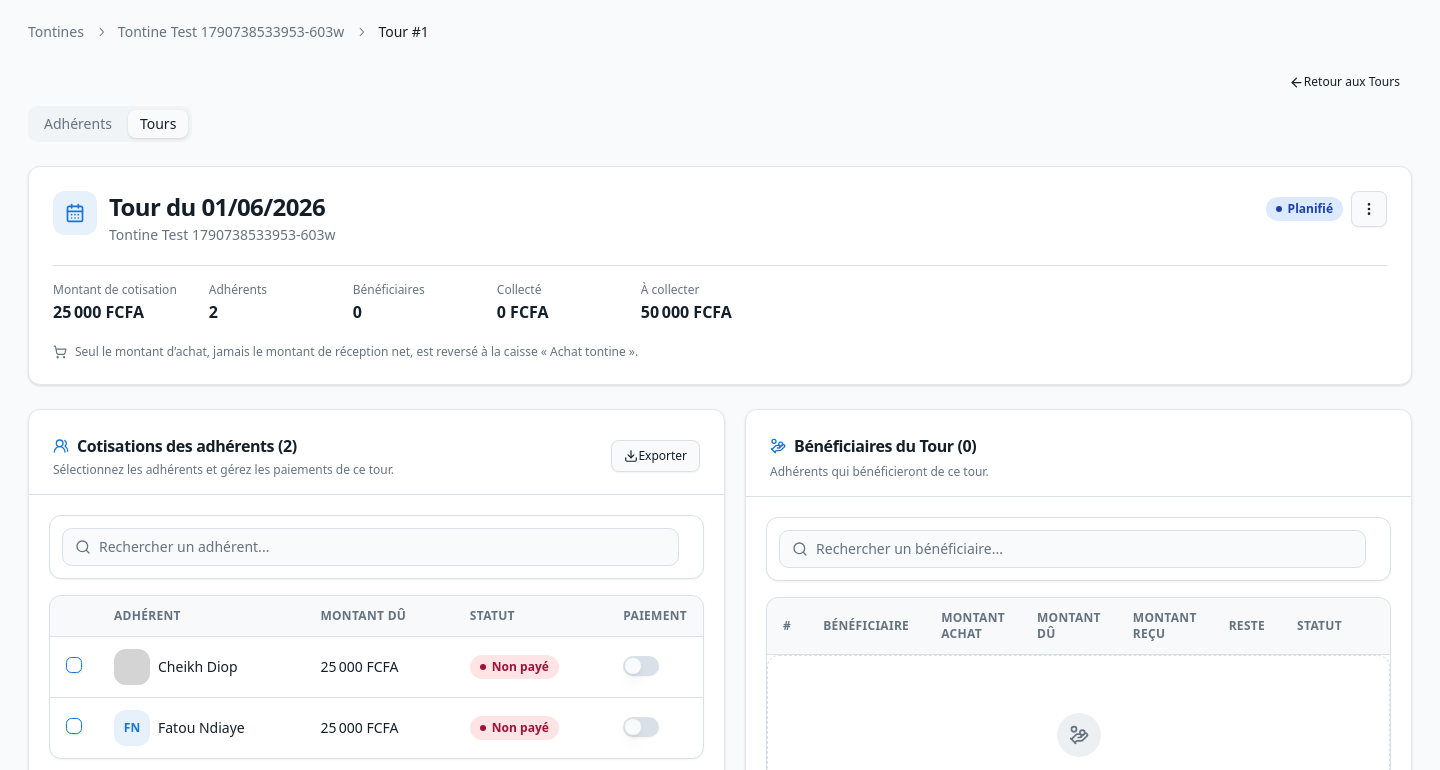
Test case: Espace de travail du Tour — Action « Régler » (Dû / Reçu / Reste / Statut) › CAS 1→3 : « Régler » avec le montant proposé (le reste) règle intégralement — le statut passe à « Réglé »
Expected: the text "Fatou Ndiaye" is shown, [158,718,245,737]
Click the checkbox named "Sélectionner" next to "FN": [74, 726] box [66,718,82,734]
(page scrolled)
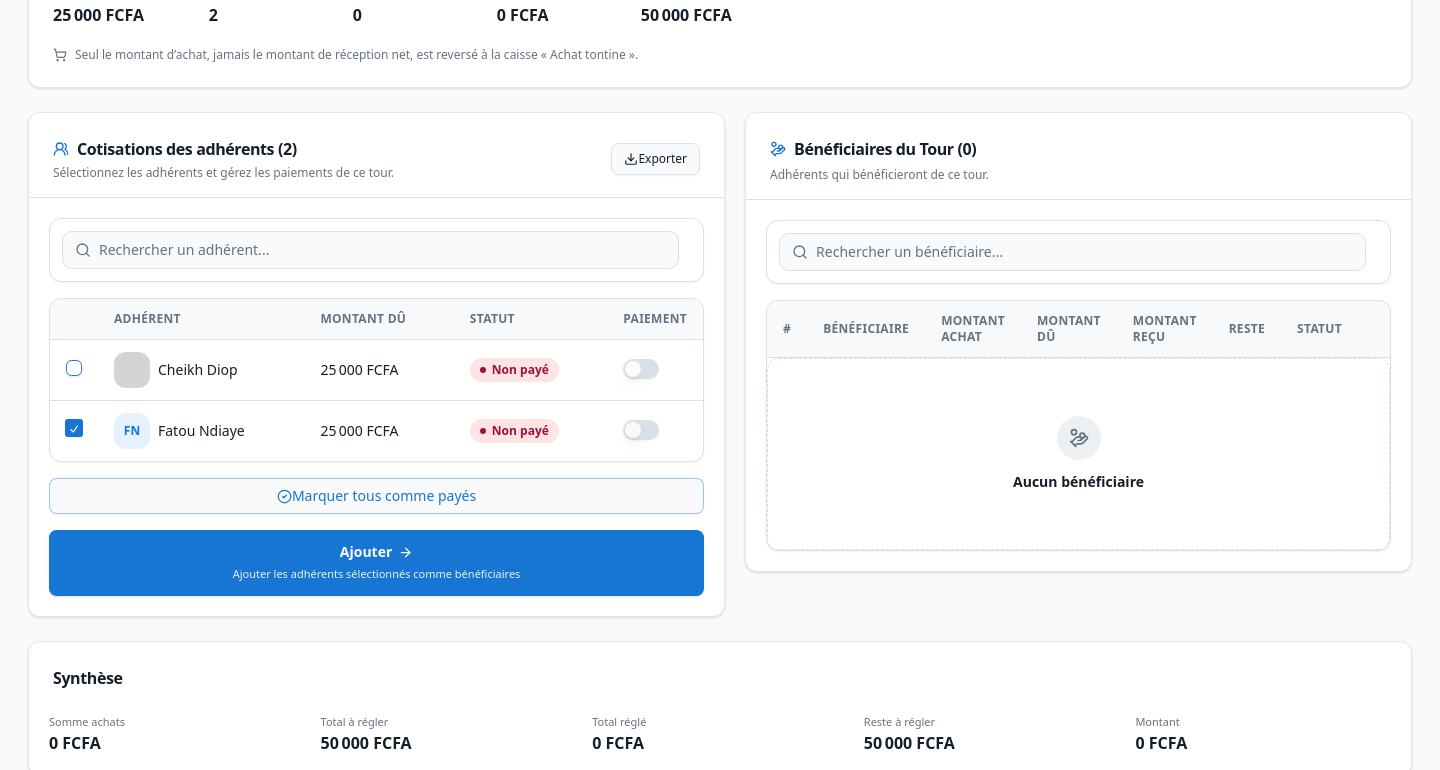
Click the button "Ajouter": [377, 563] box [49,530,704,596]
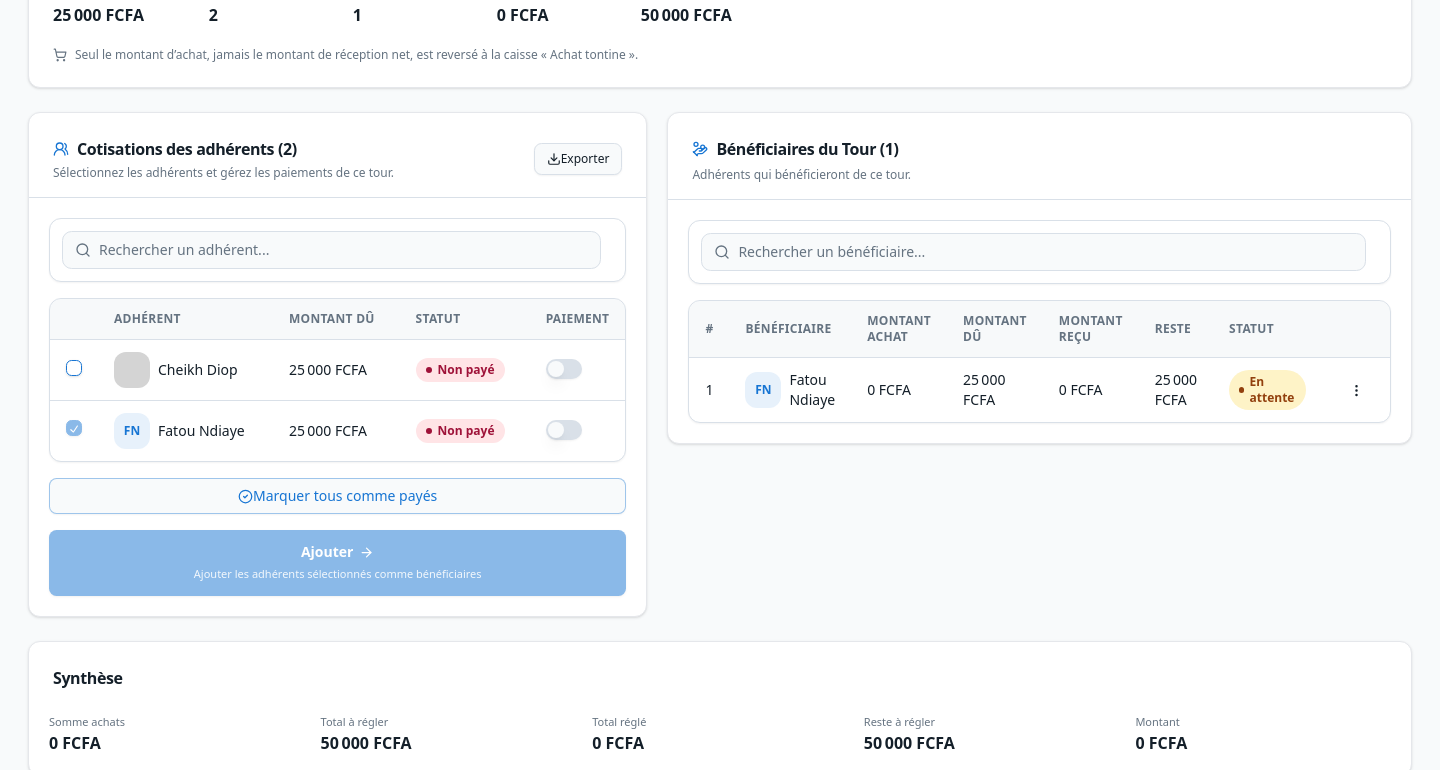
Now the text "Bénéficiaires du Tour (1)" is shown, box [692,138,899,160]
Click the button named "Actions": [1356, 390] box [1338,372,1374,408]
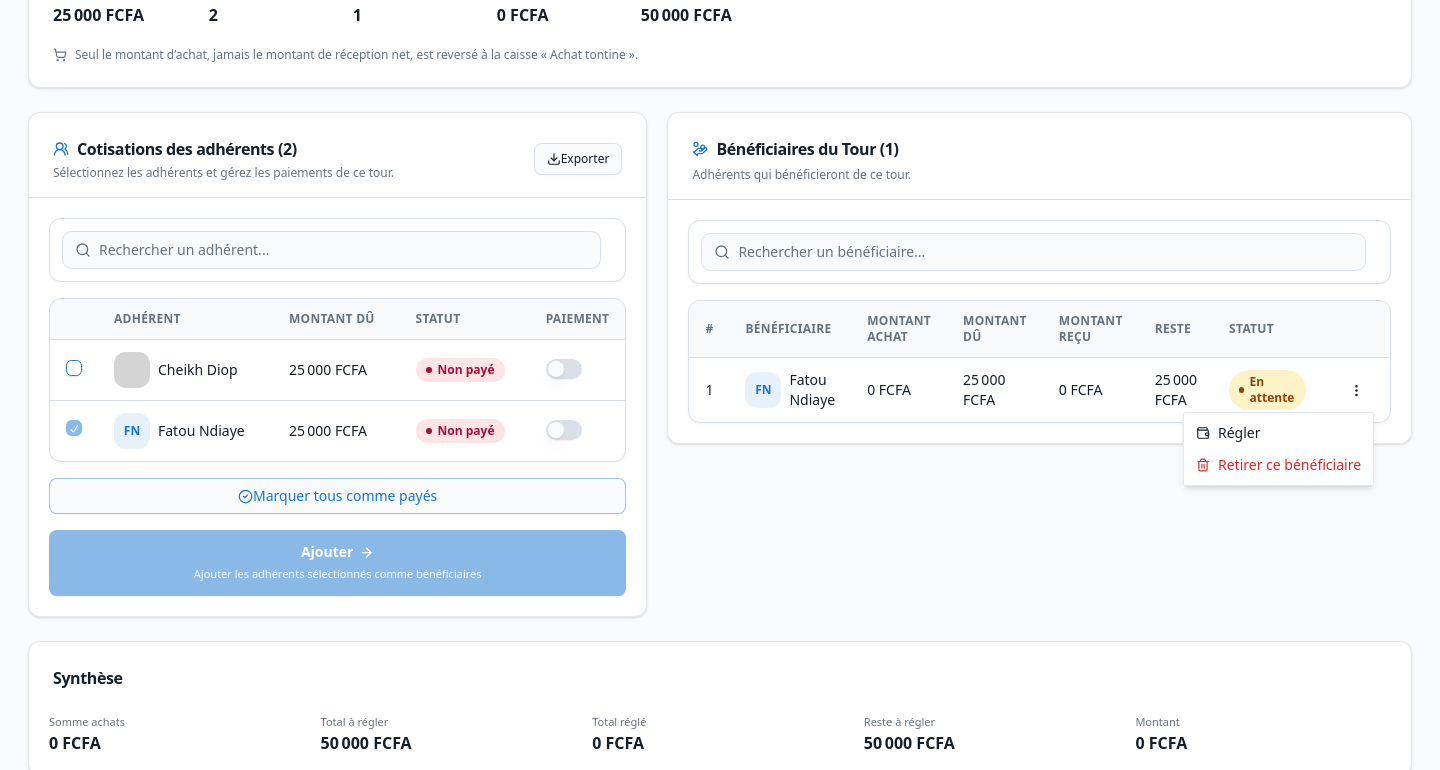
Click the menu item "Régler": [1228, 432] box [1196,423,1260,442]
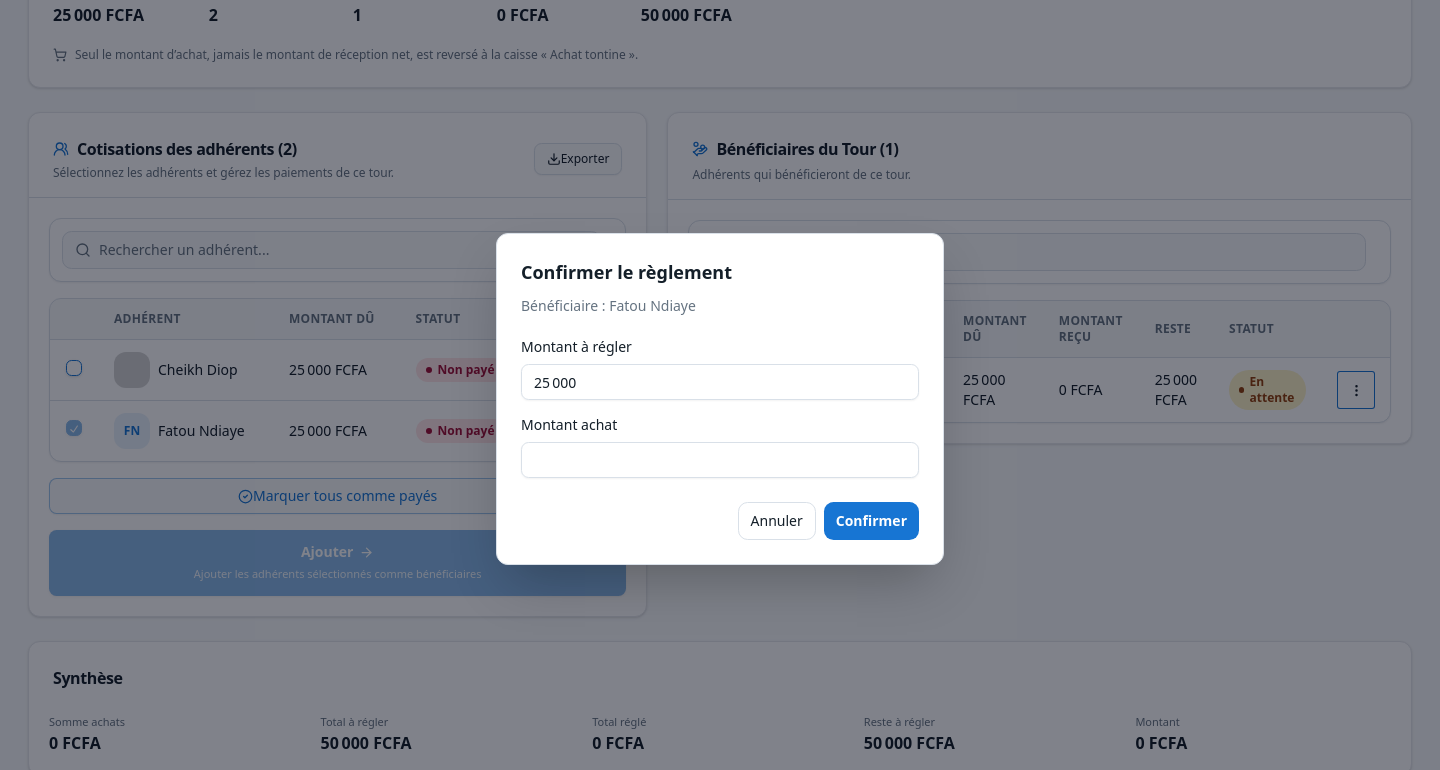
Now the text "Bénéficiaire : Fatou Ndiaye" is shown, box [521,296,696,315]
Now the field labelled "Montant à régler" holds "25 000", box [521,364,919,400]
Click the button "Confirmer": [871, 521] box [824,502,919,540]
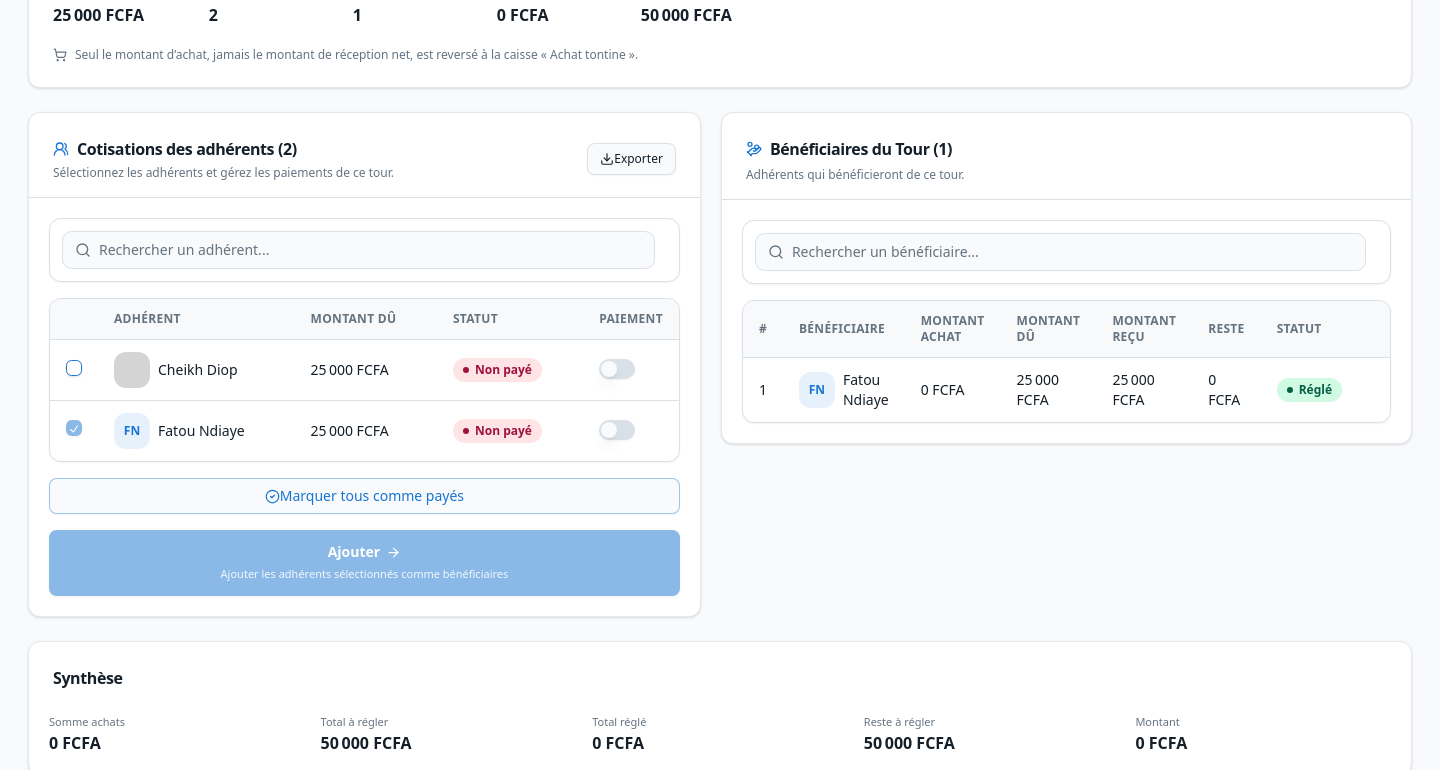
Now the text "Réglé" is shown, box [1277,378,1342,402]
